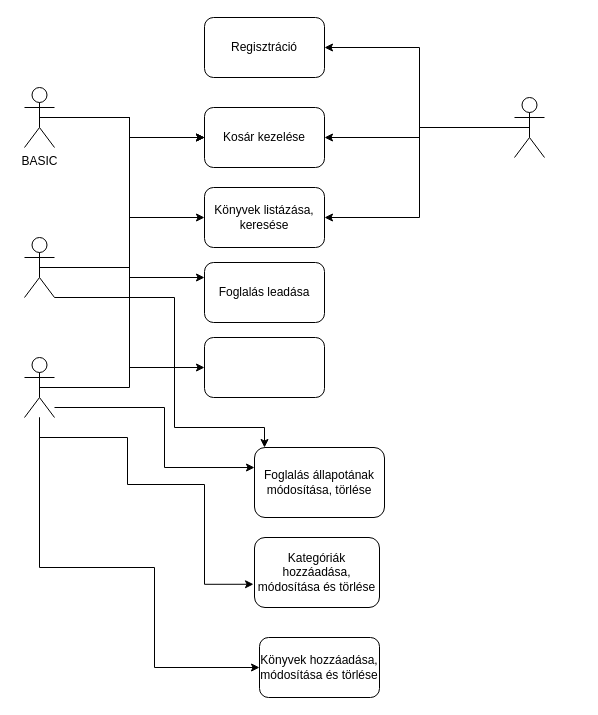
The diagram is 598 pixels wide and 715 high, and some of its shapes have lost their labels. Each missing label, with the centre of its shape:
"ADMIN" goes at point 39,387.
"EDITOR" goes at point 39,267.
"Hozzászólás foglaláshoz" goes at point 264,367.
"Nem bejelentkezett felhasználó" goes at point 529,127.
